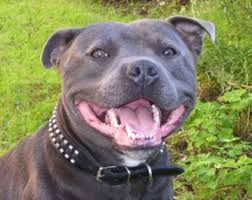Perro Pitbull: (34, 9, 218, 182)
